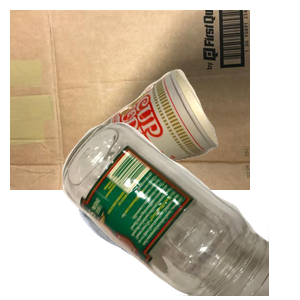cardboard: (10, 10, 250, 190)
glass: (60, 120, 300, 300)
plastic: (75, 154, 248, 300)
trash: (95, 67, 300, 238)
